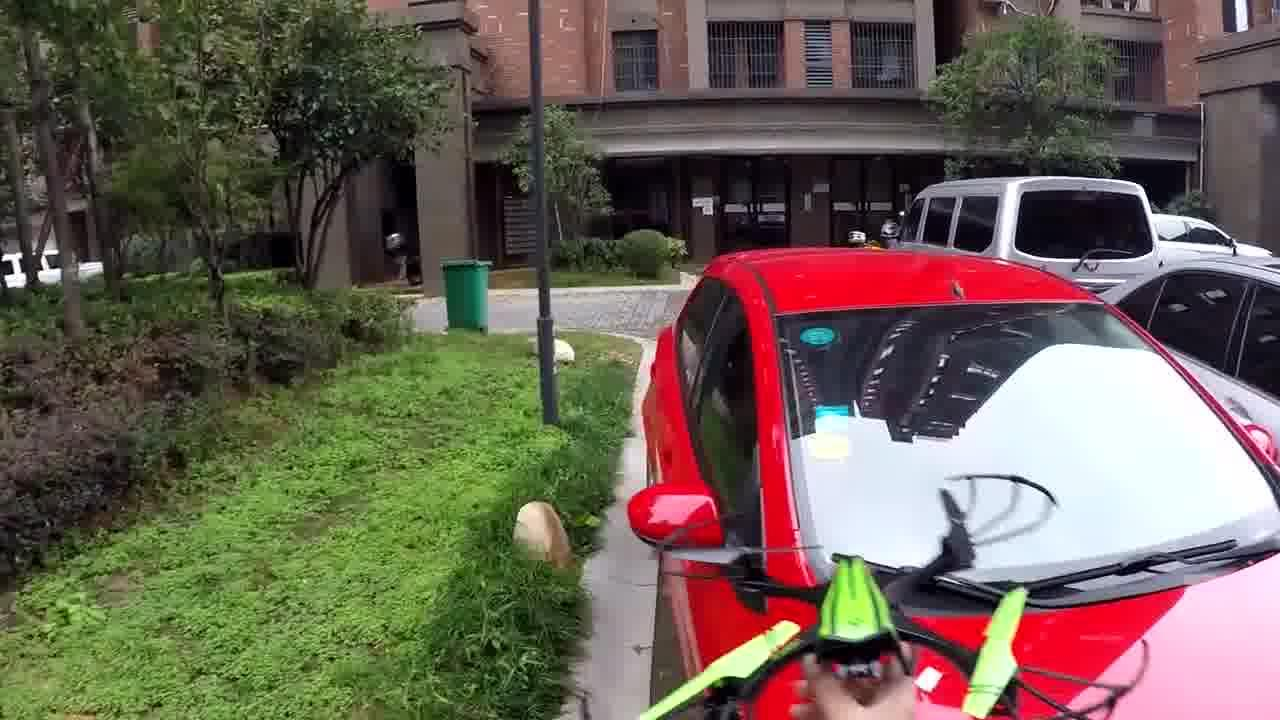drone: (616, 478, 1151, 719)
